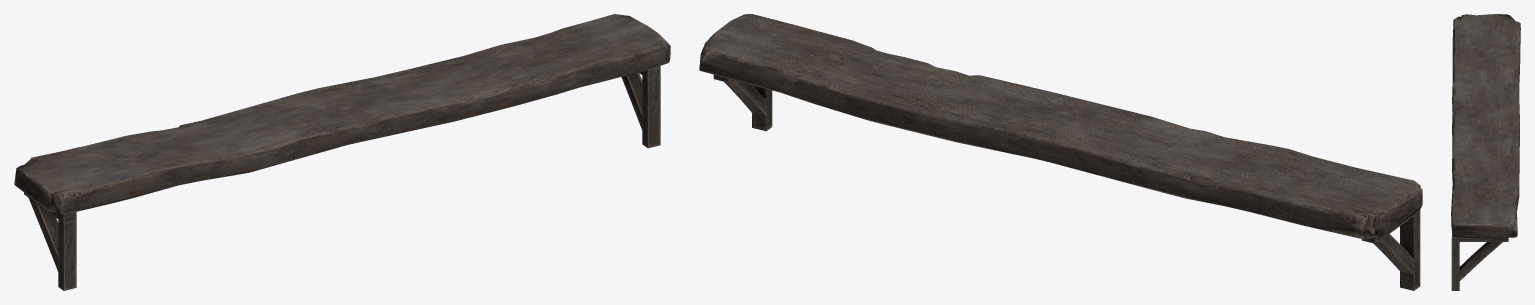
File: SM_Shelf.fbx
3 views of the same model, side by side, from view 1: azimuth 30°, elevation 25°; view 2: azimuth 150°, elevation 25°; view 3: azimuth 270°, elevation 25° (orthographic). The views are drawn at different scales.
Parts seen in each view (by area): view 1: SM_Shelf_LOD0; view 2: SM_Shelf_LOD0; view 3: SM_Shelf_LOD0.
Part boxes in pixels (bbox=[...]): SM_Shelf_LOD0: bbox=[14, 14, 670, 290]; SM_Shelf_LOD0: bbox=[699, 14, 1422, 290]; SM_Shelf_LOD0: bbox=[1451, 14, 1520, 290].
Size of the model in its own units: 205 by 28.2 by 31.72.
